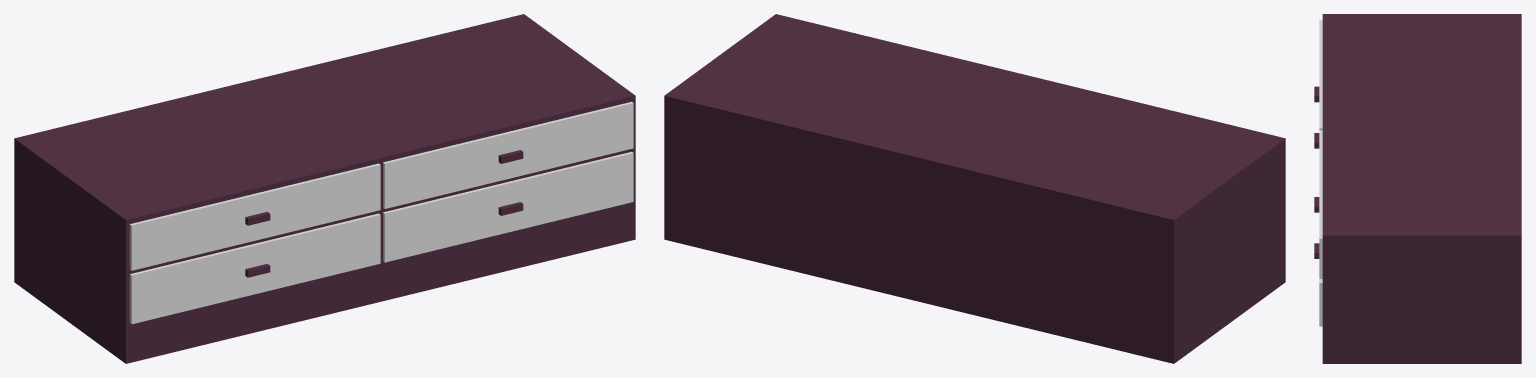
Rendered from Armario.fbx.
3 views of the same model, side by side, from view 1: azimuth 30°, elevation 25°; view 2: azimuth 150°, elevation 25°; view 3: azimuth 270°, elevation 25° (orthographic). The views are drawn at different scales.
Visible parts, largest first — view 1: Armario Baño; view 2: Armario Baño; view 3: Armario Baño.
Boxes of the visible parts, x1,y1,x2,y2 form: Armario Baño: (14,14,635,363); Armario Baño: (664,14,1285,363); Armario Baño: (1314,14,1521,363).
Size of the model in its own units: 216 by 58.39 by 85.5.
